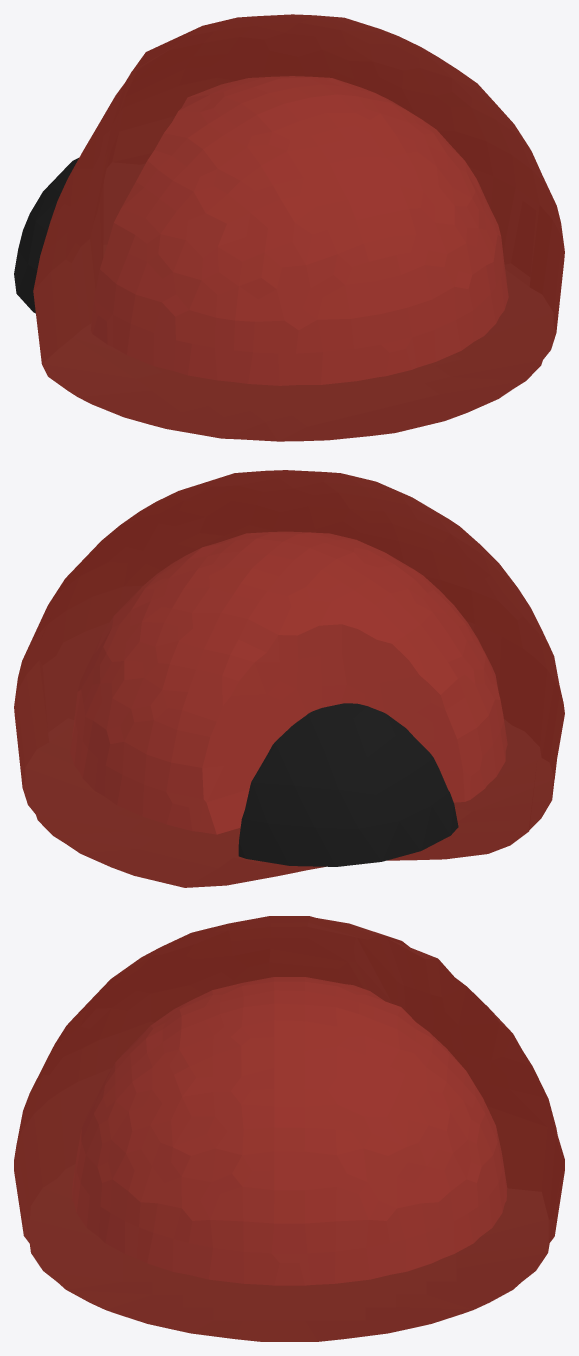
The model's file is jungleladybug.glb.
The picture shows the model from 3 angles, top to bottom: view 1: azimuth 30°, elevation 25°; view 2: azimuth 150°, elevation 25°; view 3: azimuth 270°, elevation 25°; orthographic projection.
Parts seen in each view (by area): view 1: Icosphere, Icosphere.002; view 2: Icosphere, Icosphere.002; view 3: Icosphere.
Boxes of the visible parts, bbox=[...] form: Icosphere: bbox=[33, 14, 564, 441]; Icosphere.002: bbox=[14, 158, 78, 313]; Icosphere: bbox=[14, 470, 564, 887]; Icosphere.002: bbox=[238, 703, 458, 866]; Icosphere: bbox=[14, 916, 564, 1341].
Size of the model in its own units: 2.56 by 1.58 by 2.56.
